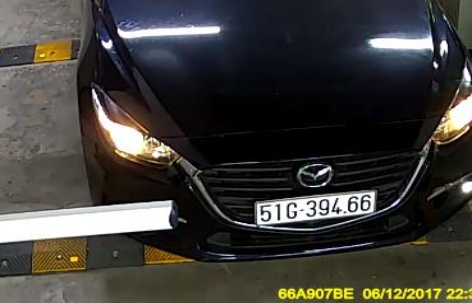plate: (255, 186, 378, 230)
